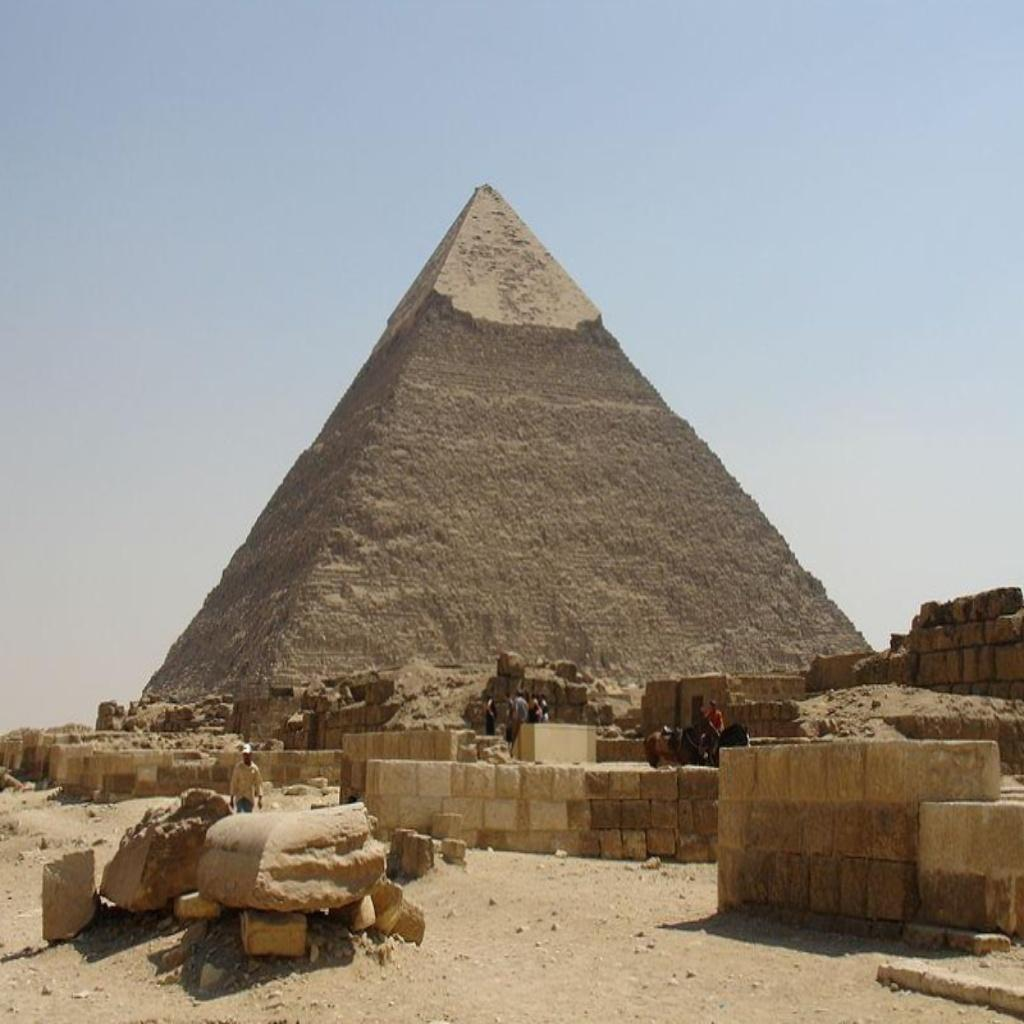Great Pyramids of Giza: (138, 178, 877, 708)
